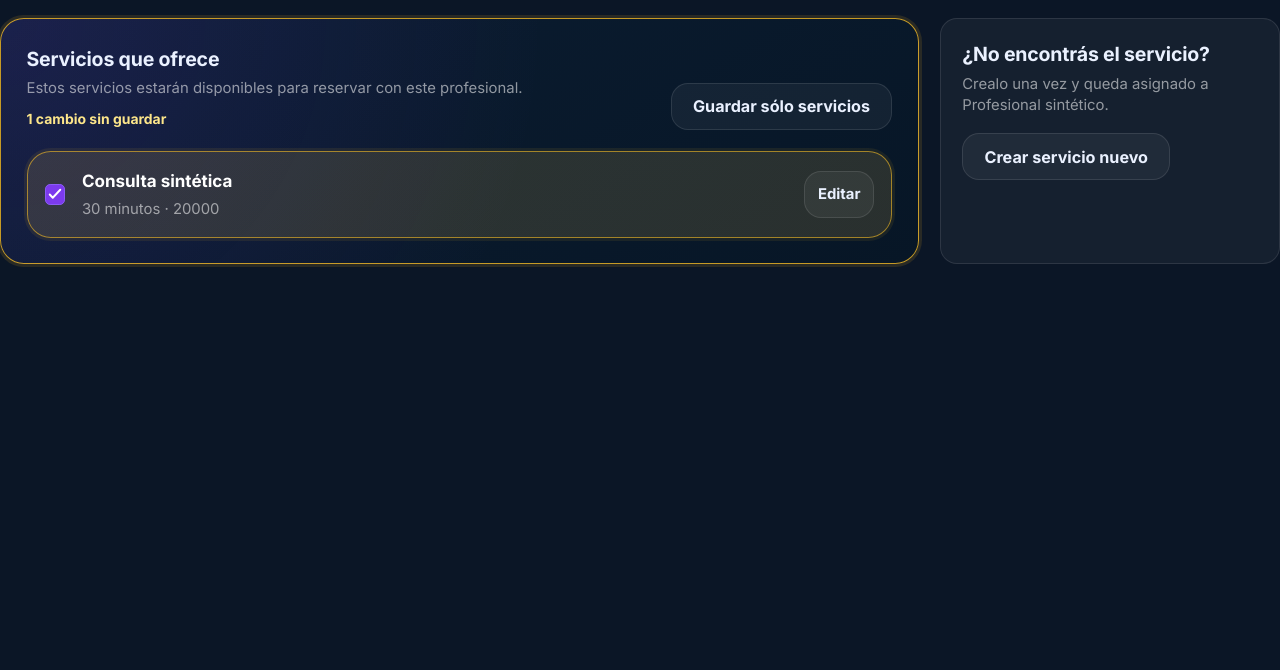
Test case: professional service task state › blocks an uncertain creation across close/reopen and offers a native review link
Click the button "Crear servicio nuevo": [1066, 157] box [962,133,1170,180]
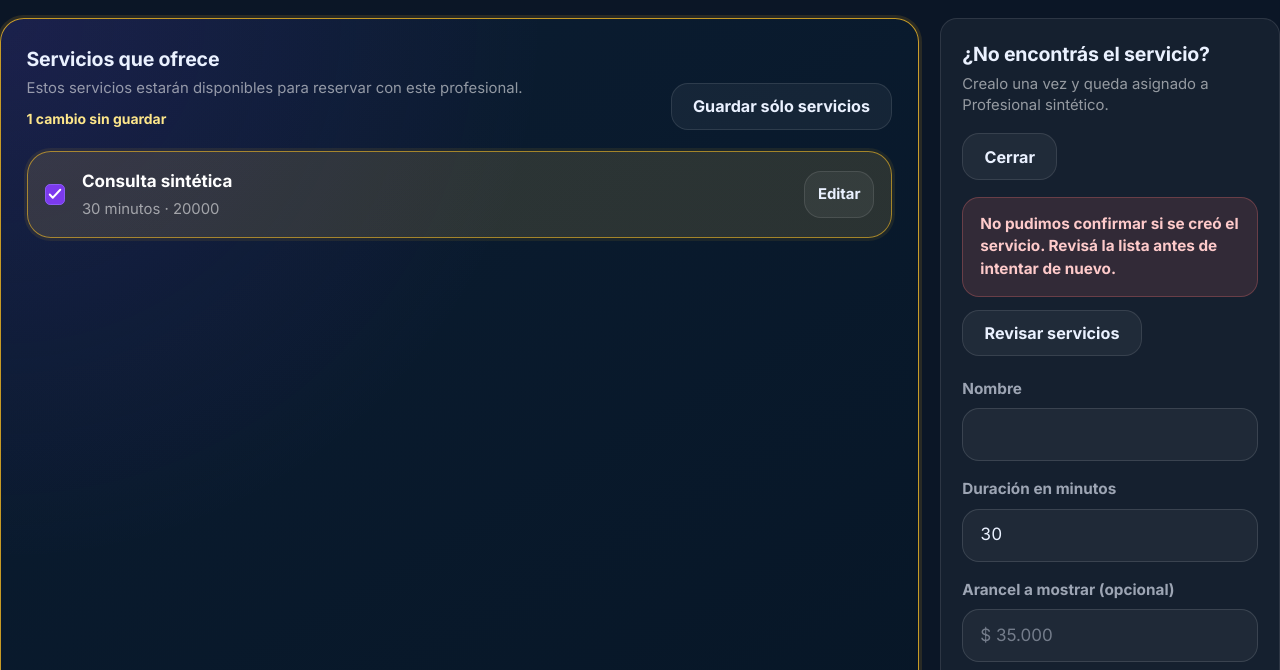
Click the button "Cerrar": [1010, 157] box [962,133,1057,180]
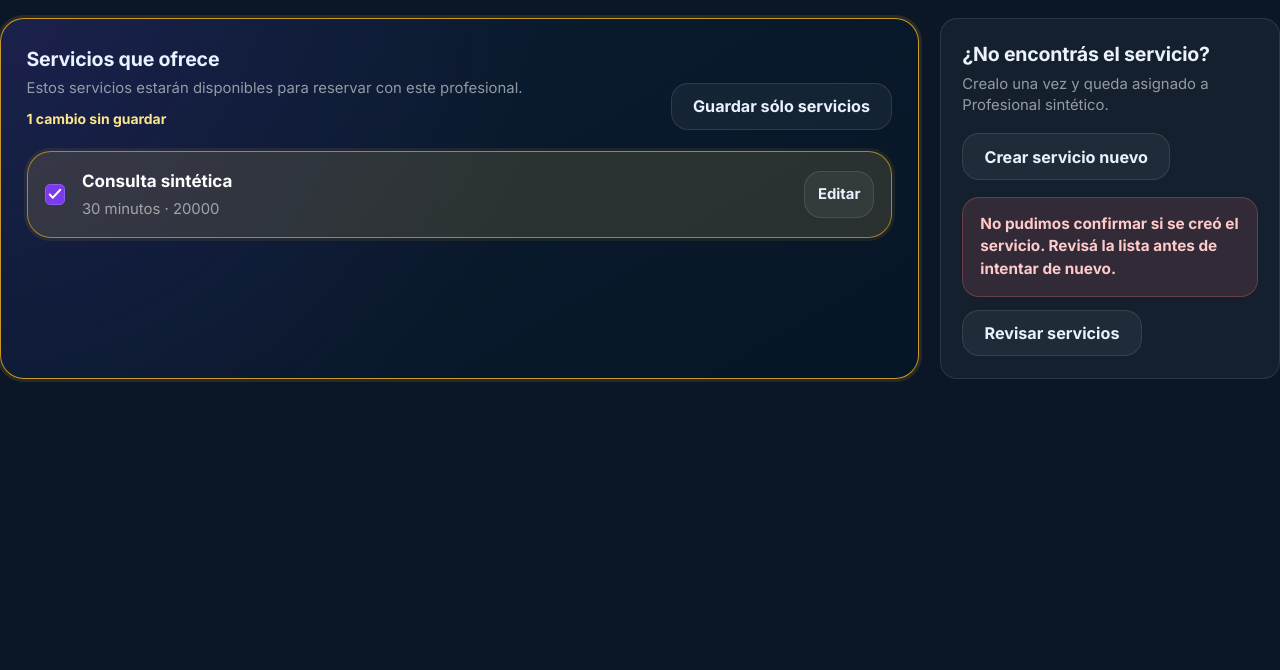
Click the button "Crear servicio nuevo": [1066, 157] box [962,133,1170,180]
(page scrolled)
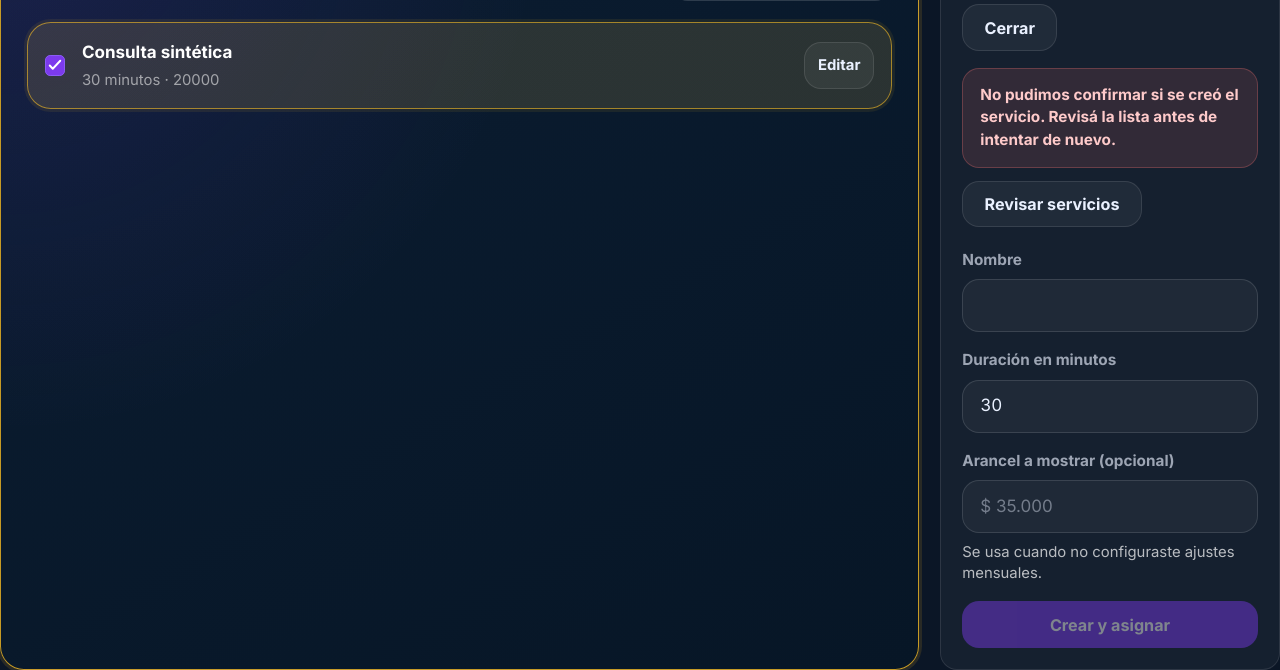
Now the button "Crear y asignar" is disabled, box [962,601,1258,648]
